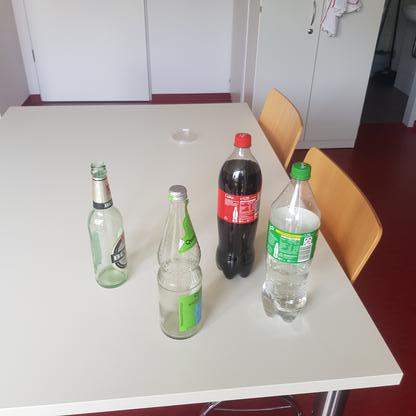coca-cola: (215, 132, 263, 282)
